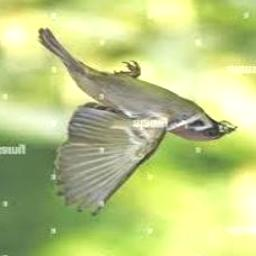Sparrow: (38, 29, 236, 216)
